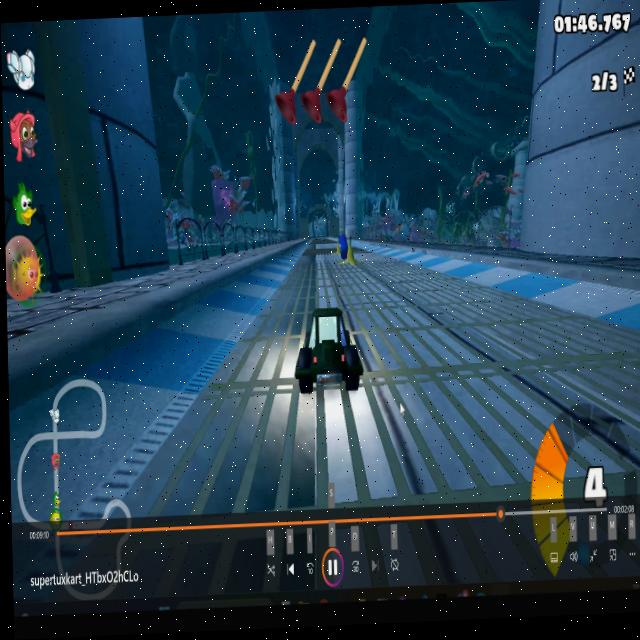obstacle: (339, 240, 360, 275)
player_kart: (288, 299, 365, 402)
track: (365, 288, 526, 505), (523, 311, 640, 503), (192, 396, 371, 512), (252, 326, 291, 404), (339, 268, 435, 293), (309, 230, 338, 300), (296, 256, 310, 302), (366, 253, 393, 272)
